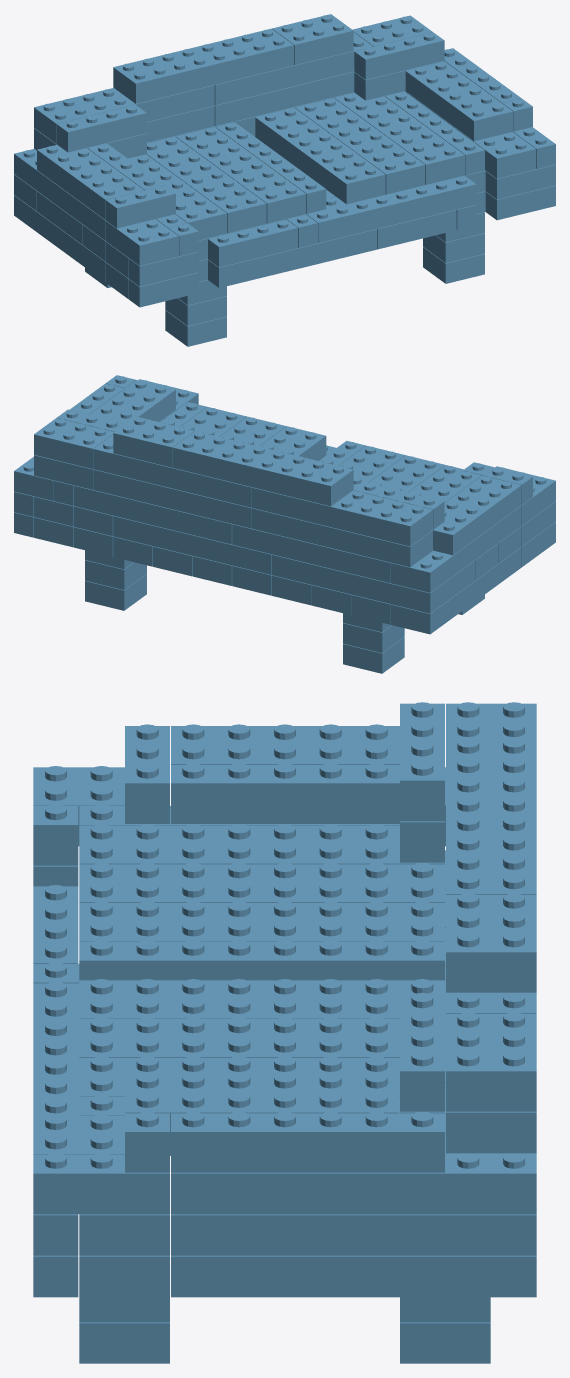
The model's file is collab_sofa-L4V3_raw.glb.
The picture shows the model from 3 angles, top to bottom: view 1: azimuth 30°, elevation 25°; view 2: azimuth 150°, elevation 25°; view 3: azimuth 270°, elevation 25°; orthographic projection. The views are drawn at different scales.
Size of the model in its own units: 20.98 by 9.13 by 10.98.
